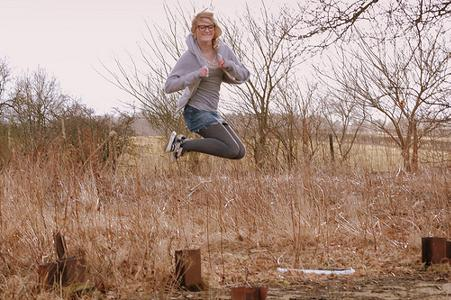person: (164, 10, 253, 166)
